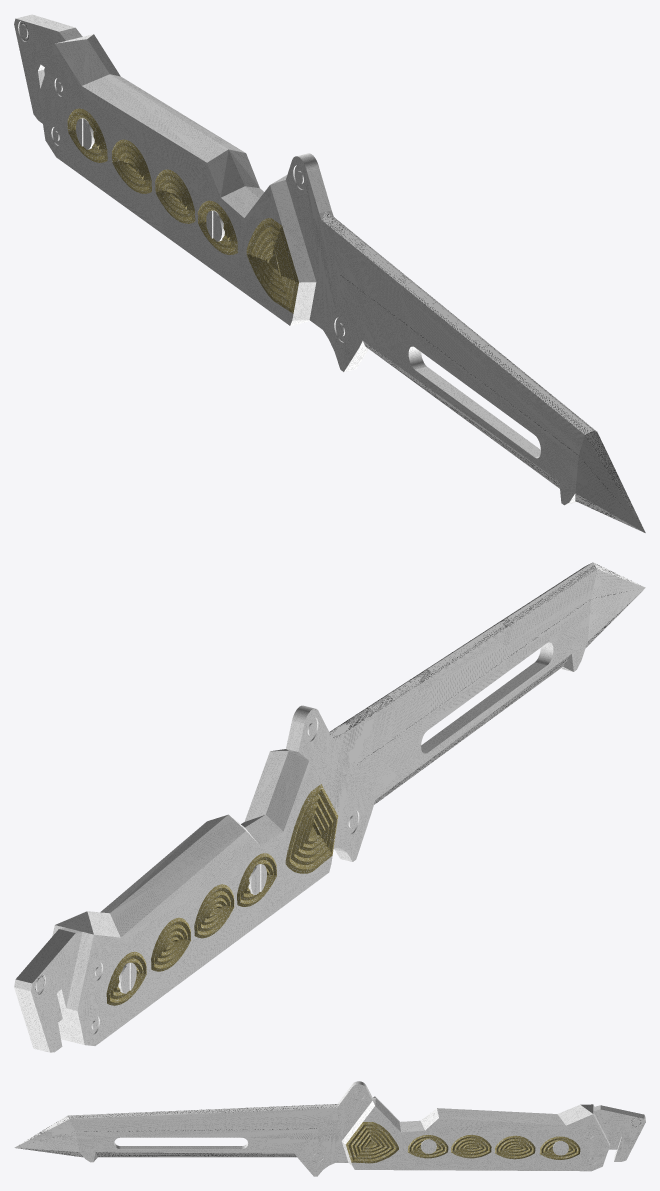
Rendered from model_scale.obj.
3 renders of one model, top to bottom at view 1: azimuth 30°, elevation 25°; view 2: azimuth 150°, elevation 25°; view 3: azimuth 270°, elevation 25°, orthographic. The views are drawn at different scales.
Visible parts, largest first — view 1: mesh1_mesh1-geometry, mesh2_mesh2-geometry; view 2: mesh1_mesh1-geometry, mesh2_mesh2-geometry; view 3: mesh2_mesh2-geometry, mesh1_mesh1-geometry.
Boxes of the visible parts, left/top/right/bottom form: mesh1_mesh1-geometry: left=14, top=16, right=645, bottom=532; mesh2_mesh2-geometry: left=24, top=14, right=641, bottom=524; mesh1_mesh1-geometry: left=22, top=562, right=645, bottom=1052; mesh2_mesh2-geometry: left=14, top=562, right=592, bottom=1050; mesh2_mesh2-geometry: left=14, top=1083, right=645, bottom=1176; mesh1_mesh1-geometry: left=114, top=1081, right=645, bottom=1158.
Size of the model in its own units: 0.00977 by 0.0378 by 0.2344.
